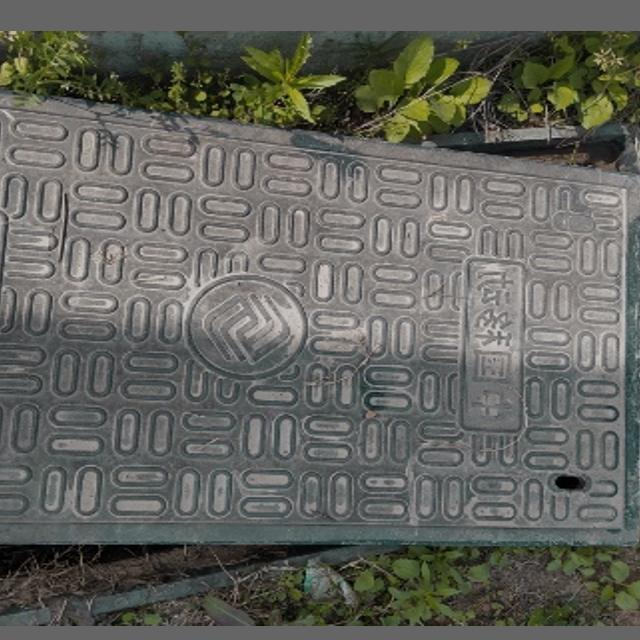uncovered: (0, 64, 640, 619)
